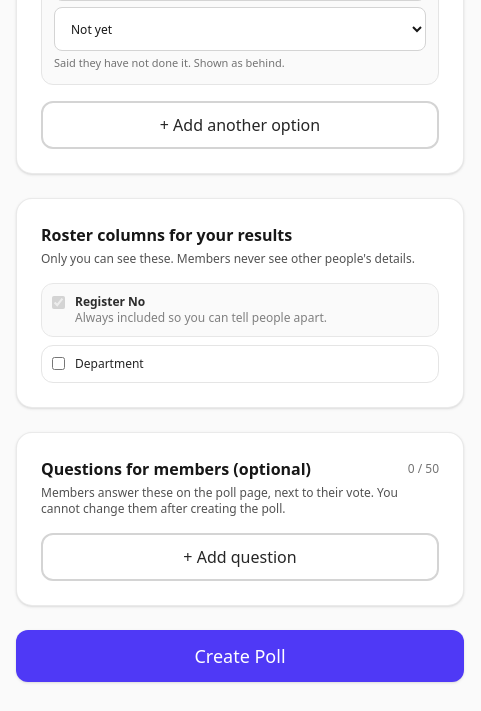
Test: NewPollPage › allows adding and removing poll-only fields
This screenshot has width=481, height=711.
(page scrolled)
Expected: the text "0 / 50" is shown, [408,460,439,476]
Click "+ Add question"
Click the button "+ Add question".
click(240, 556)  # box [41,532,439,580]
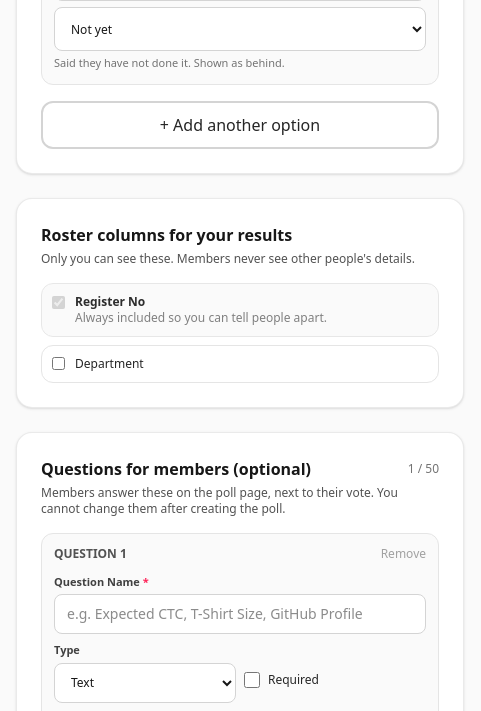
Expected: the text "1 / 50" is shown, [408,460,439,476]
Expected: the text "Question 1" is shown, [54,546,127,562]
Expected: the field with placeholder "e.g. Expected CTC, T-Shirt Size, GitHub Profile" is shown, [54,594,426,634]
Click "Remove"
Click the button with aria-label "Remove question".
click(403, 554)  # box [381,546,426,562]
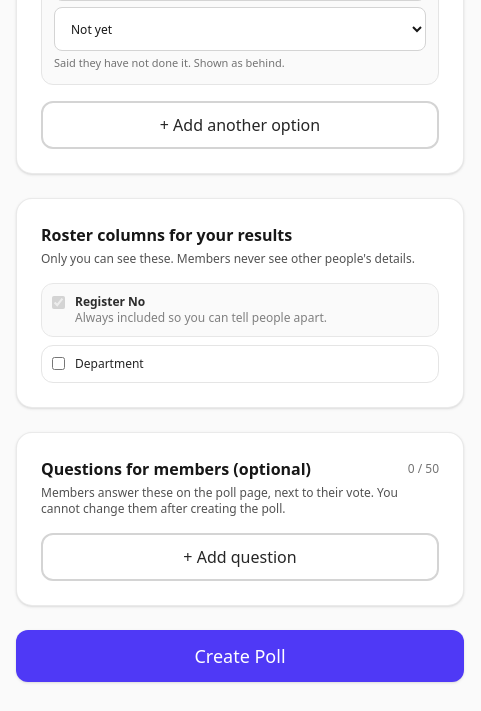
Expected: the text "0 / 50" is shown, [408,460,439,476]
Expected: the text "Question 1" is gone
